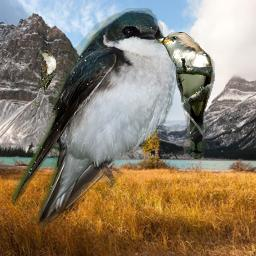Cuckoo: (154, 32, 215, 159), (34, 50, 57, 107)
Swallow: (12, 3, 182, 228)
